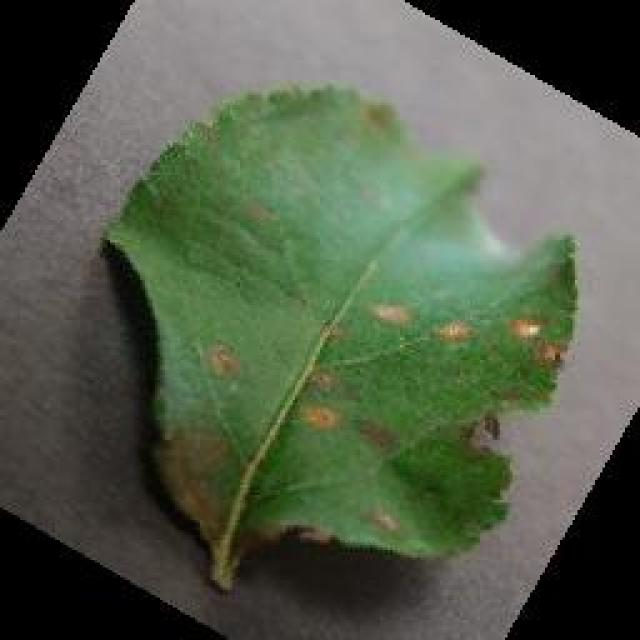apple cedar apple rust: (98, 78, 580, 592)
